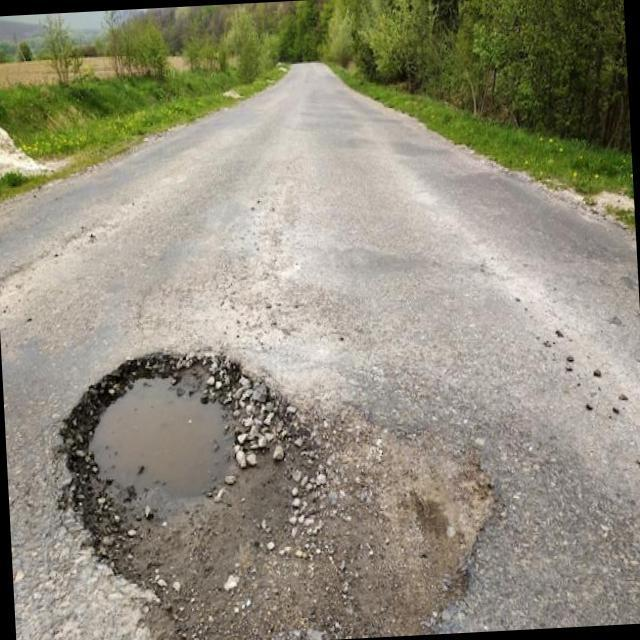Pothole: (56, 343, 494, 640)
